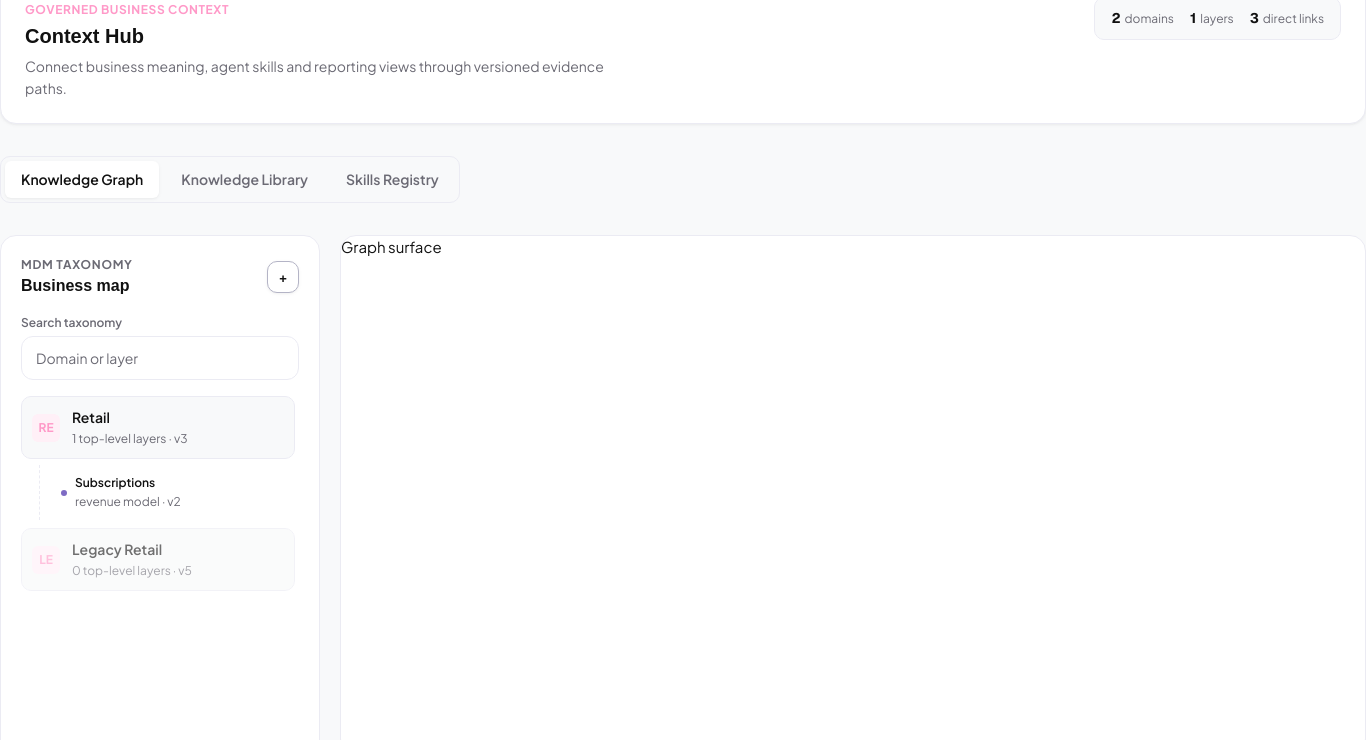
Scenario: falls back to the id, set as an id, when the bundle resolves no name
Step 1. Click the button "Subscriptions revenue model · v2" → (172, 493), box [50,465,295,520]
(page scrolled)
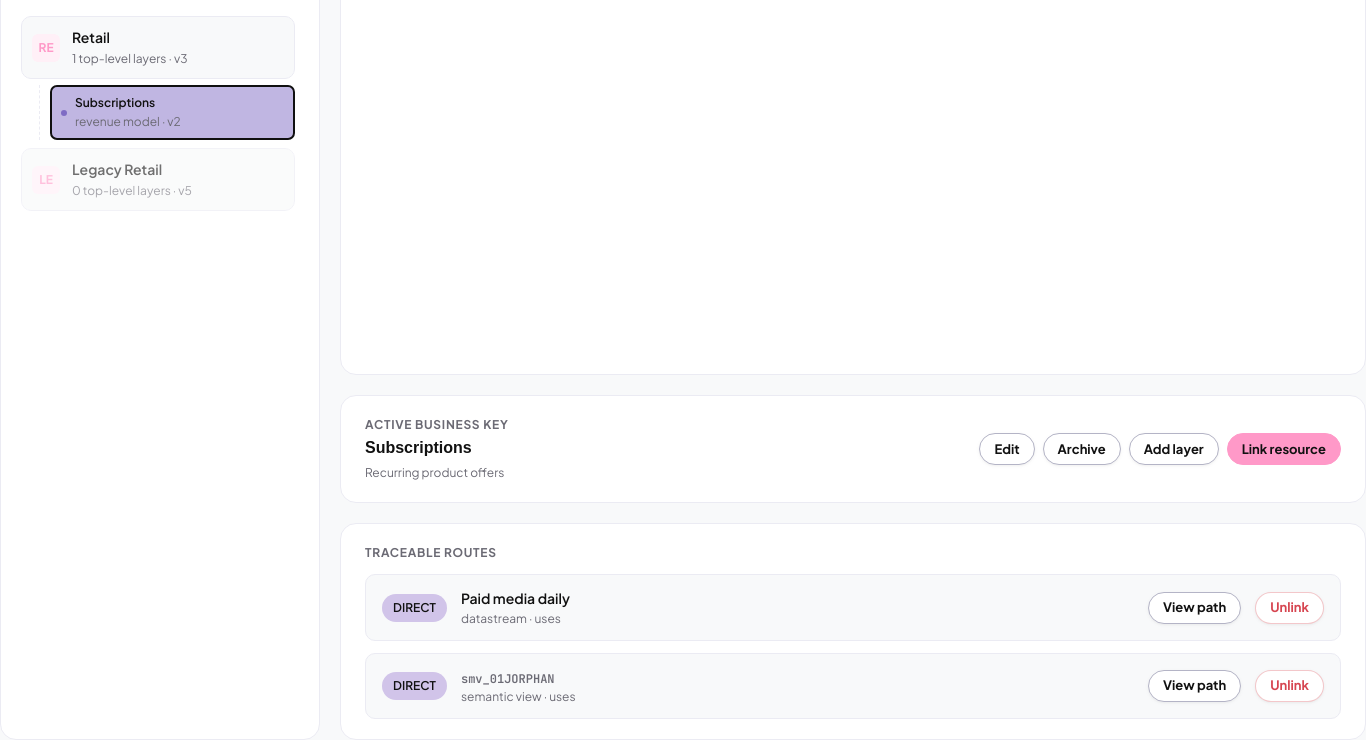
Check: the text "Paid media daily" is shown, box [461,589,570,607]
